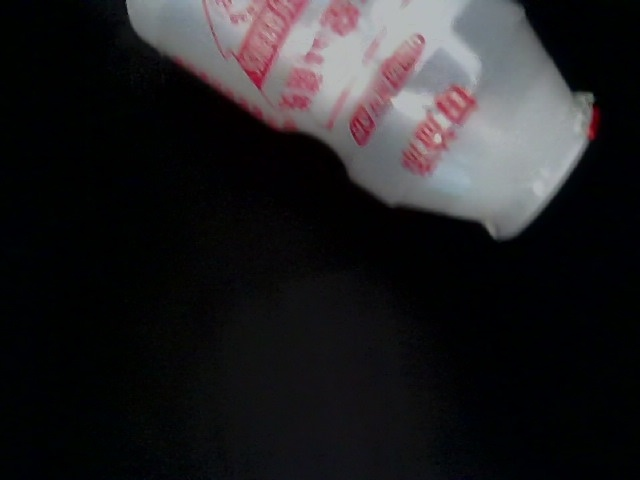CYLJ: (16, 58, 121, 161)
